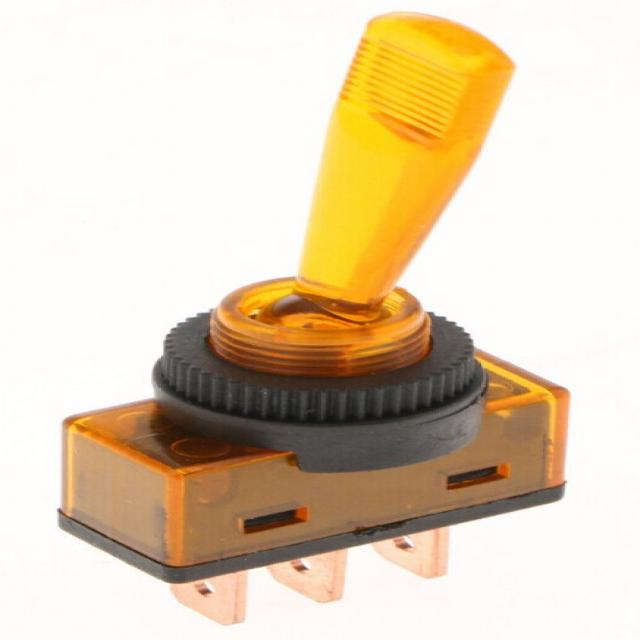toggle switch: (147, 11, 525, 430)
